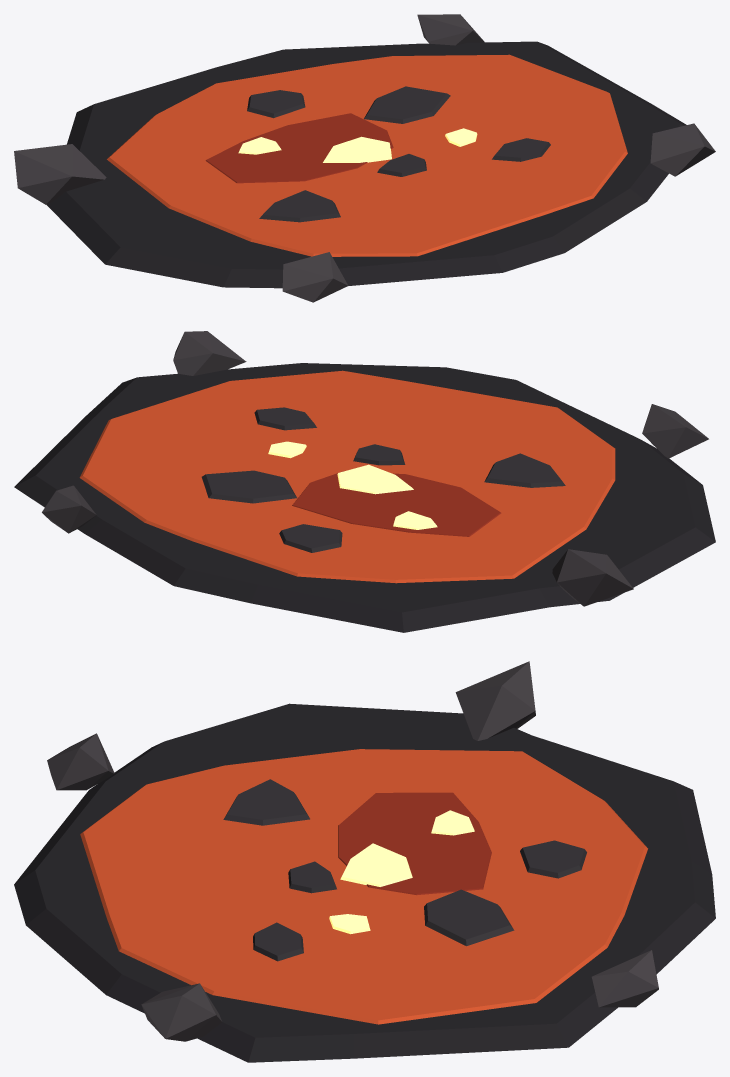
The model's file is Lava_Pool.fbx.
The picture shows the model from 3 angles, top to bottom: view 1: azimuth 30°, elevation 25°; view 2: azimuth 150°, elevation 25°; view 3: azimuth 270°, elevation 25°; orthographic projection. The views are drawn at different scales.
Parts seen in each view (by area): view 1: Lava, Rim, RimStones, Crust, Deep, Glow; view 2: Lava, Rim, RimStones, Crust, Deep, Glow; view 3: Lava, Rim, RimStones, Crust, Deep, Glow.
Boxes of the visible parts, box(x1,y1,x2,y2) form: Lava: box(107, 54, 627, 256); Rim: box(46, 41, 686, 288); RimStones: box(14, 14, 715, 302); Crust: box(247, 86, 550, 222); Deep: box(205, 113, 393, 183); Glow: box(238, 128, 477, 162); Lava: box(79, 370, 615, 583); Rim: box(14, 363, 715, 632); RimStones: box(42, 331, 708, 606); Crust: box(201, 407, 565, 552); Deep: box(292, 471, 501, 536); Glow: box(268, 441, 437, 529); Lava: box(80, 749, 647, 1024); Rim: box(14, 703, 715, 1062); RimStones: box(47, 661, 658, 1041); Crust: box(223, 779, 586, 961); Deep: box(338, 792, 491, 895); Glow: box(329, 810, 474, 934).
Bounding box in the file's own units: 9.07 × 0.6482 × 7.51.
